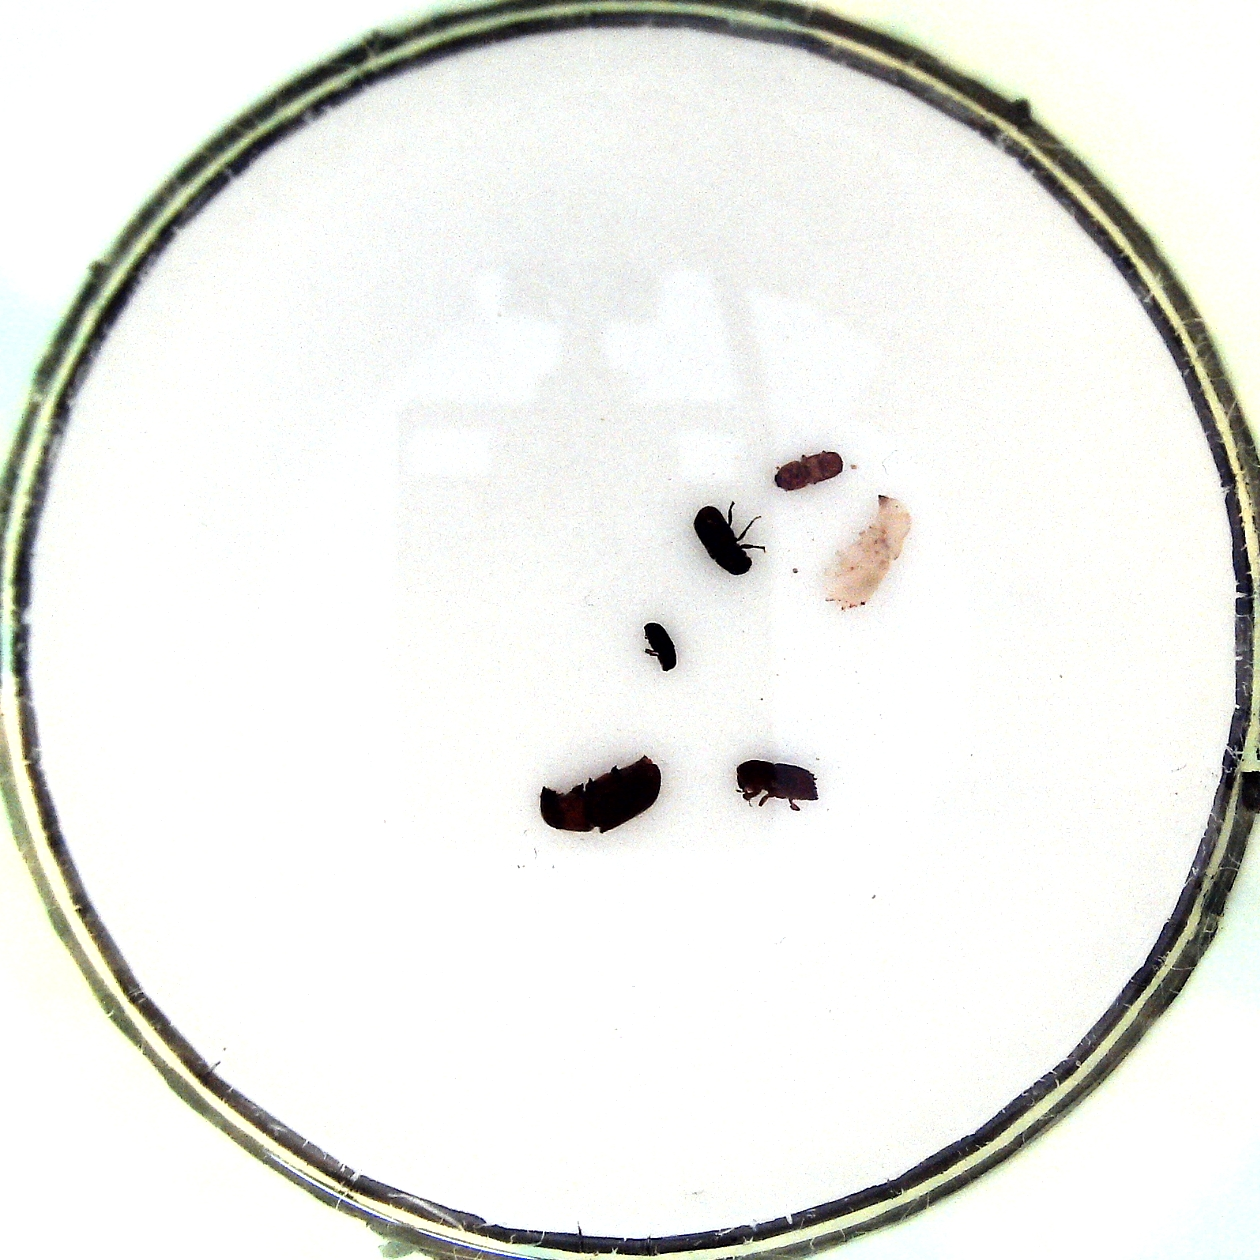Boerner: (820, 492, 915, 612)
Leconte: (533, 751, 661, 846)
Linnaeus: (735, 753, 822, 815)
acuminatus: (771, 443, 848, 492)
armandi: (689, 497, 773, 576)
coleoptera: (640, 612, 678, 677)
